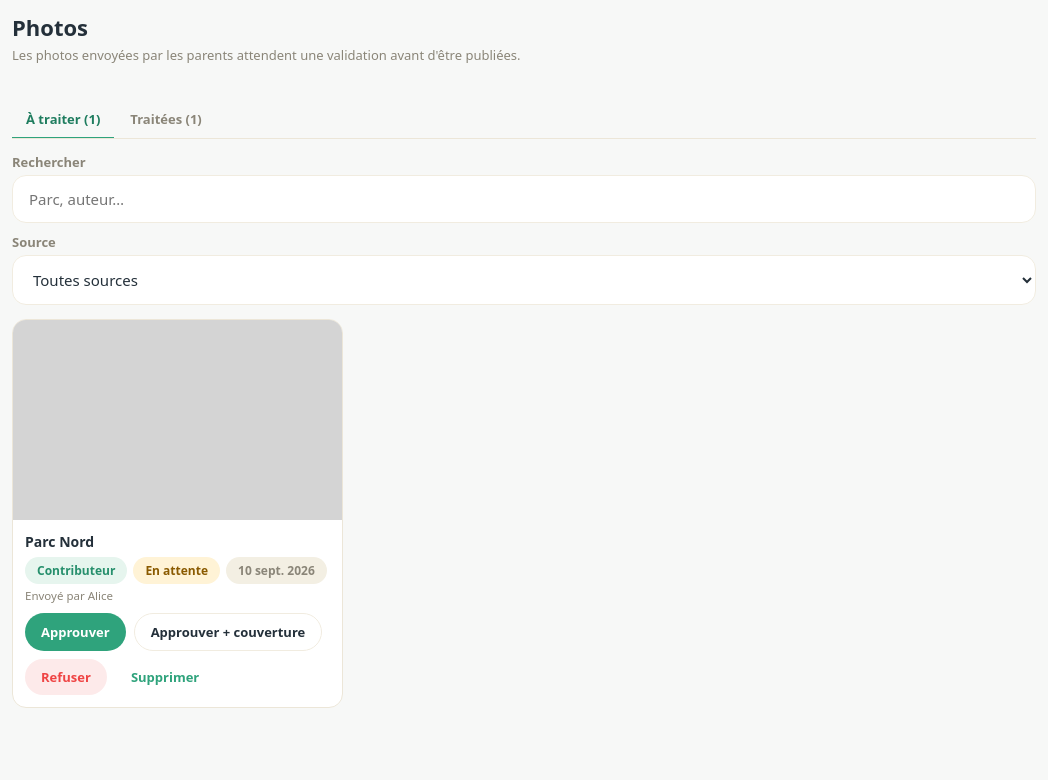
it: Photos — file de modération (Admin-UI-6D) › l'onglet Traitées affiche le statut réel et seulement l'action Supprimer
Click the tab "Traitées (1)" at (166, 120), box [116,101,216,139]
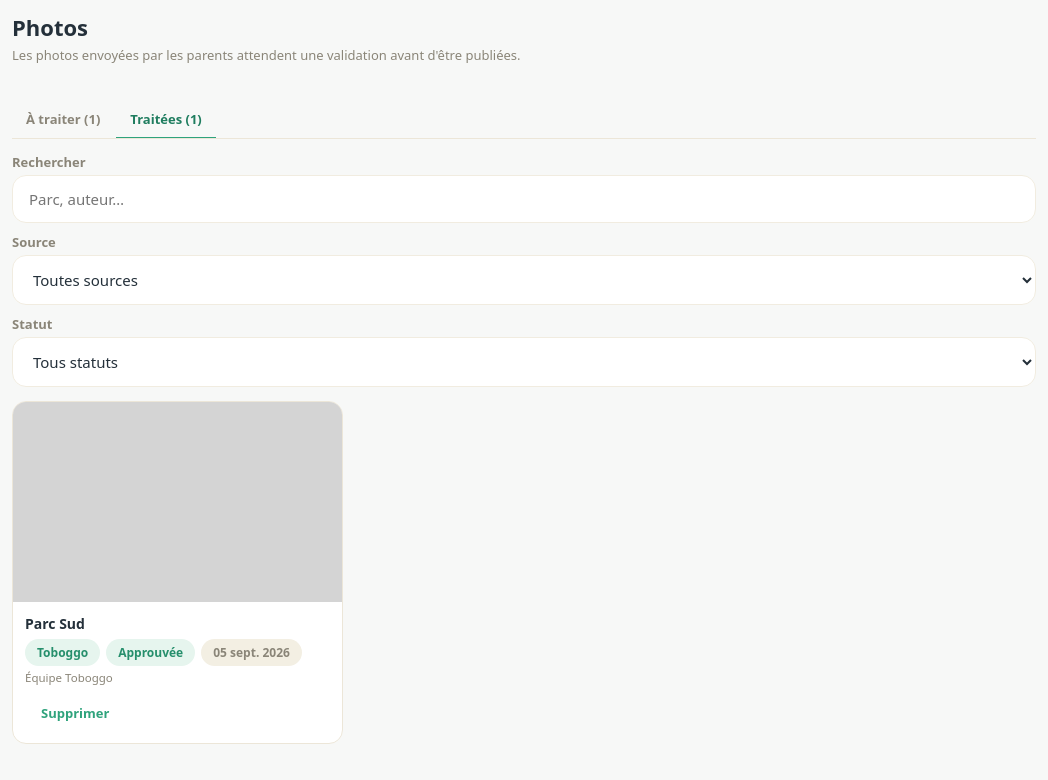
Result: the link "Parc Sud" is shown at [25,614,85,633]
Result: the text "Approuvée" is shown at [106,639,195,666]
Result: the button "Approuver" is gone
